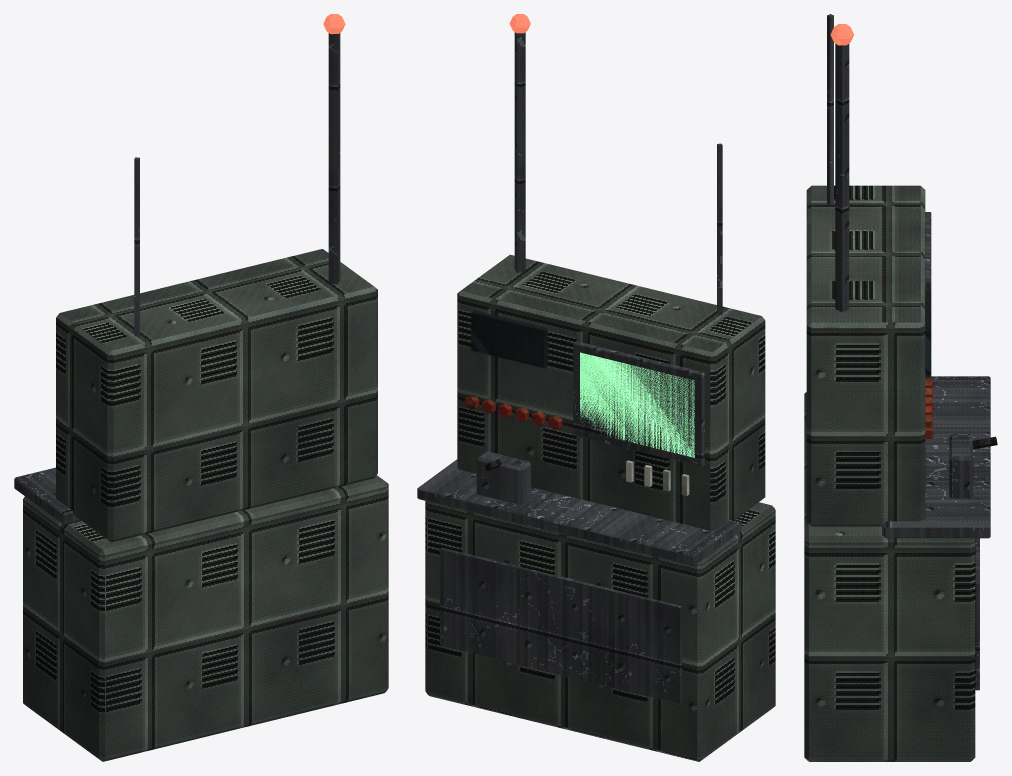
File: prop_radio_console.glb
3 views of the same model, side by side, from view 1: azimuth 30°, elevation 25°; view 2: azimuth 150°, elevation 25°; view 3: azimuth 270°, elevation 25° (orthographic). The views are drawn at different scales.
Visible parts, largest first — view 1: prop_radio_console_mesh; view 2: prop_radio_console_mesh; view 3: prop_radio_console_mesh.
Boxes of the visible parts, left/top/right/bottom form: prop_radio_console_mesh: left=14, top=14, right=388, bottom=761; prop_radio_console_mesh: left=417, top=14, right=775, bottom=761; prop_radio_console_mesh: left=804, top=14, right=997, bottom=761.
Bounding box in the file's own units: 1.5 × 3.34 × 0.8139.
8 materials, 8 textured.
